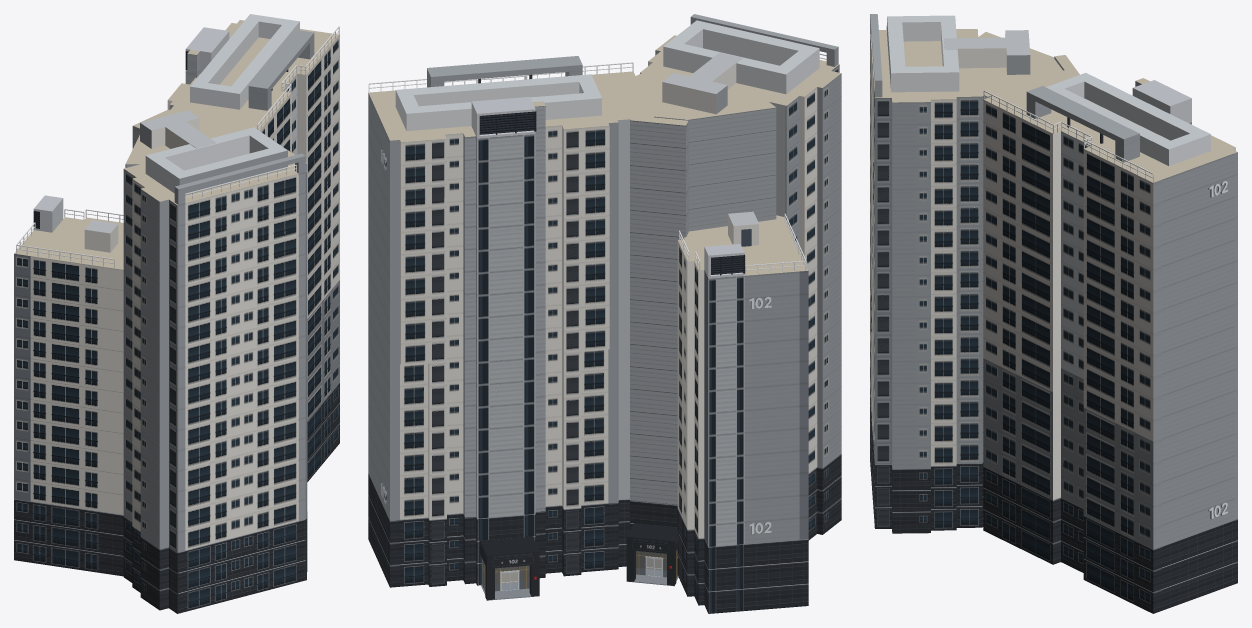
Rendered from place_금파힐102up.glb.
3 views of the same model, side by side, from view 1: azimuth 30°, elevation 25°; view 2: azimuth 150°, elevation 25°; view 3: azimuth 270°, elevation 25° (orthographic). The views are drawn at different scales.
Visible parts, largest first — view 1: WingC_South_20F, WingB_NW_15F_118sqm, WingA_NE_20F, KumhoParkHills_102_UpperOnly; view 2: WingA_NE_20F, WingB_NW_15F_118sqm, KumhoParkHills_102_UpperOnly, WingC_South_20F; view 3: WingA_NE_20F, WingC_South_20F, KumhoParkHills_102_UpperOnly.
Boxes of the visible parts, x1,y1,x2,y2 form: WingC_South_20F: (123, 110, 307, 613); WingB_NW_15F_118sqm: (14, 195, 123, 576); WingA_NE_20F: (165, 14, 339, 481); KumhoParkHills_102_UpperOnly: (125, 109, 240, 167); WingA_NE_20F: (368, 56, 653, 600); WingB_NW_15F_118sqm: (677, 211, 808, 613); KumhoParkHills_102_UpperOnly: (626, 68, 776, 586); WingC_South_20F: (640, 14, 841, 540); WingA_NE_20F: (983, 70, 1237, 613); WingC_South_20F: (870, 14, 1030, 533); KumhoParkHills_102_UpperOnly: (978, 32, 1079, 526).
Size of the model in its own units: 49.42 by 55.95 by 40.99.
163 materials, 99 textured.
